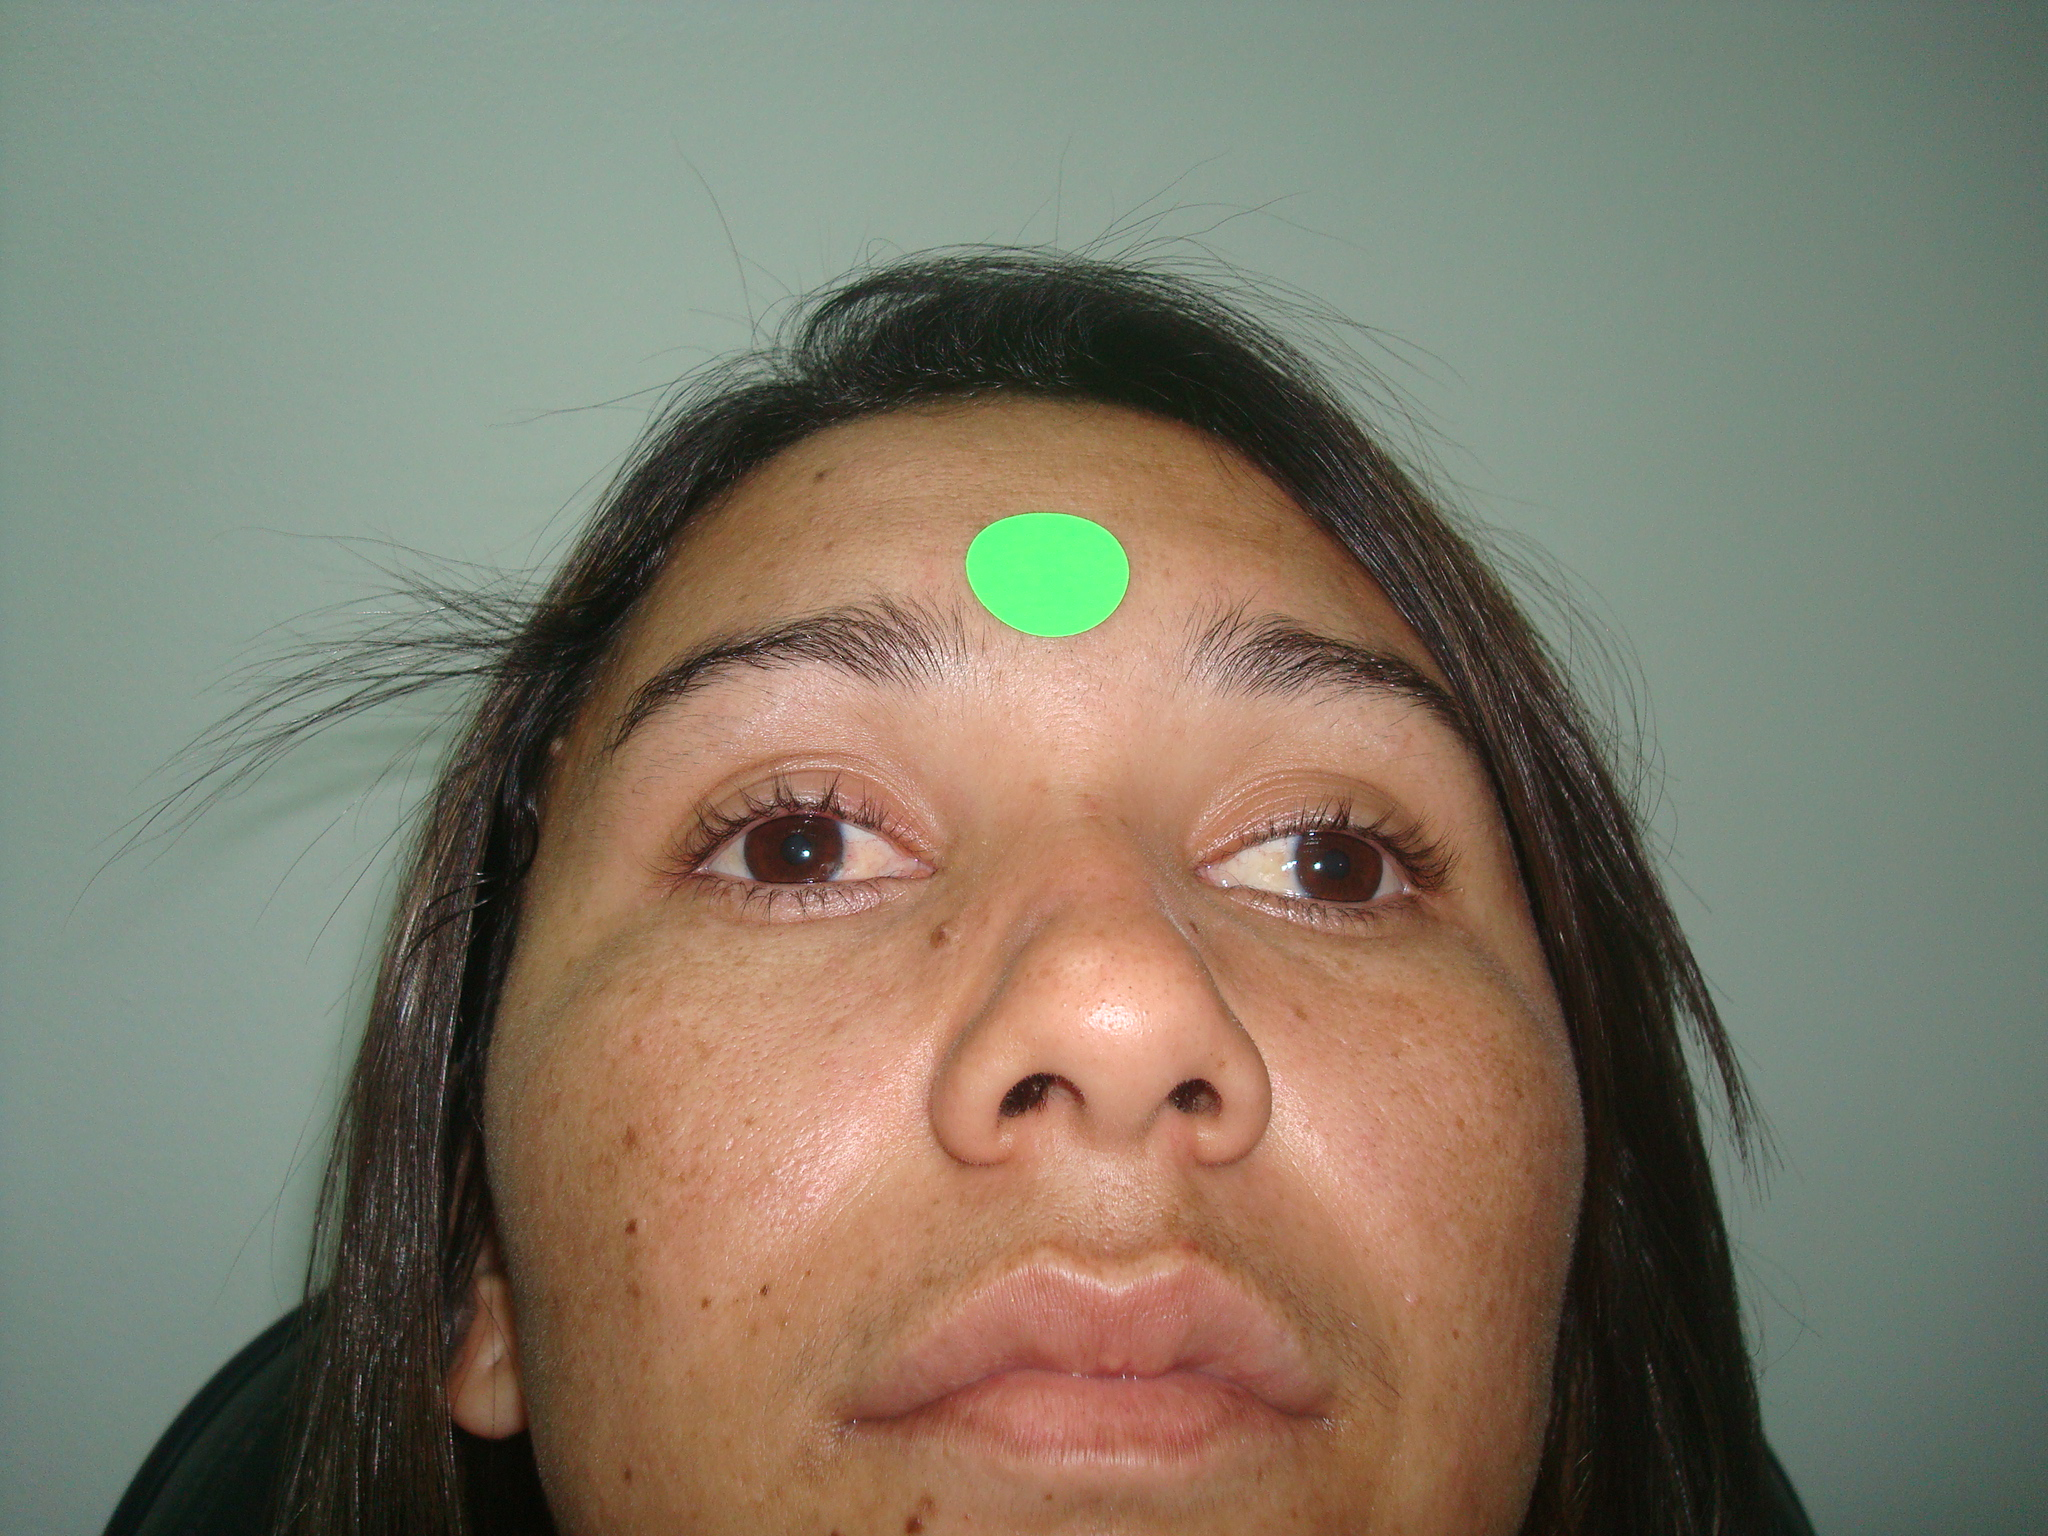flash: (1311, 858, 1324, 871), (800, 847, 811, 860)
limbo: (745, 807, 847, 892), (1292, 821, 1382, 907)
